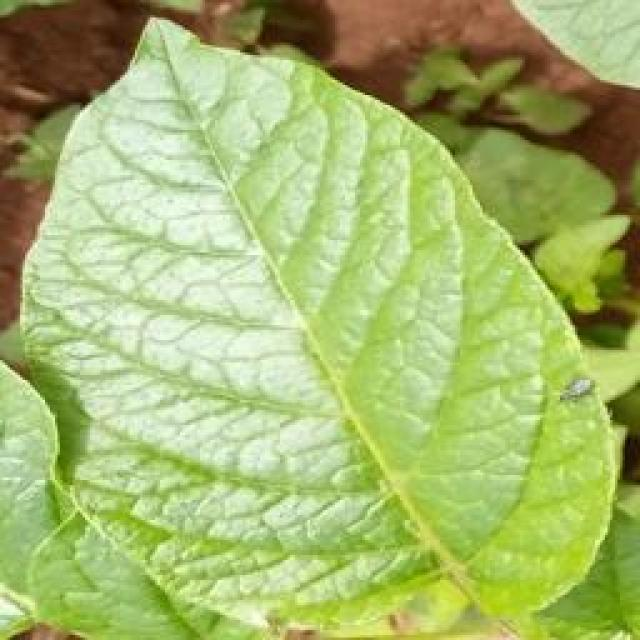healthy: (7, 12, 625, 638)
